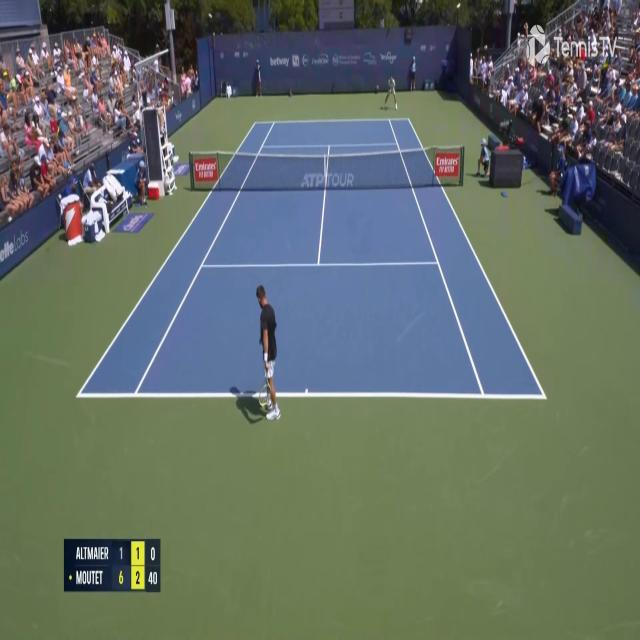tennis-player: (252, 282, 282, 426), (382, 74, 399, 110)
